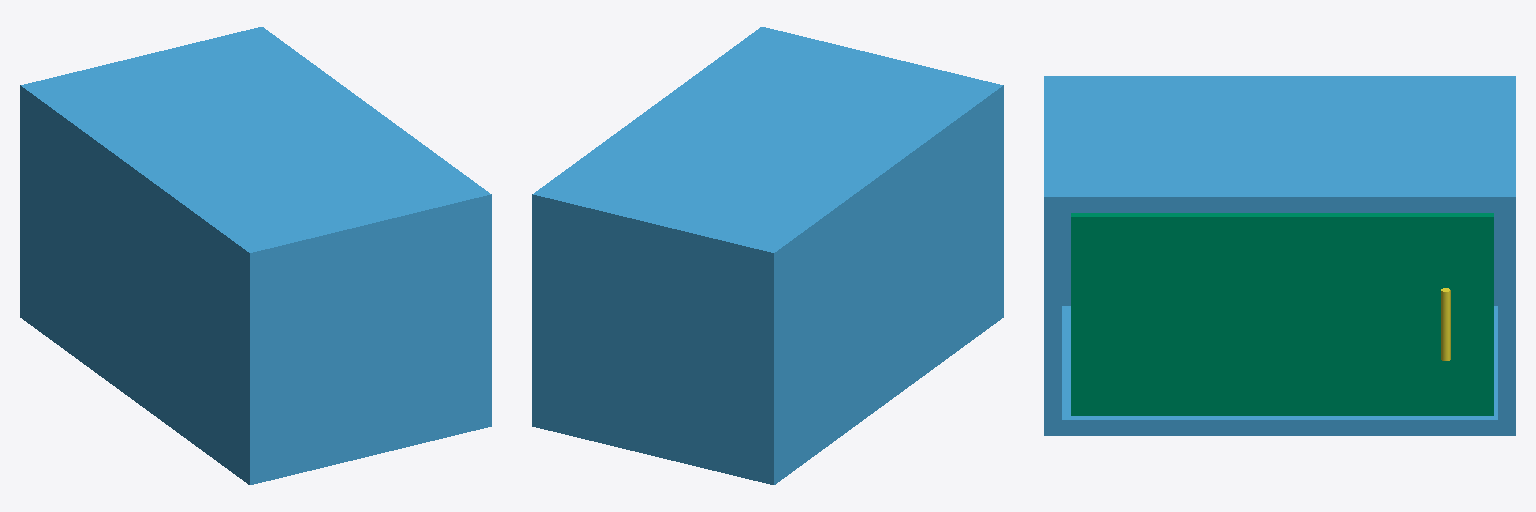
The robot description file, URDF, robot "my_cabinet":
<?xml version="1.0" ?>
<robot name="my_cabinet">
	<link name="world"/>
	<joint name="virtual_joint" type="fixed">
		<parent link="world"/>
		<child link="base_cabinet_link"/>
		<origin xyz="0.0 0.0 0.0" rpy="0.0 0.0 0.0"/>
	</joint>
	<link name="base_cabinet_link">
		<visual>
			<origin xyz="0.0 -0.0025 -0.1287487361722688" rpy="0.0 0.0 0.0"/>
			<geometry>
				<box size="0.3 0.4931610538302347 0.018"/>
			</geometry>
		</visual>
		<collision name="base_cabinet_link_collision_0">
			<origin xyz="0.0 -0.0025 -0.1287487361722688" rpy="0.0 0.0 0.0"/>
			<geometry>
				<box size="0.3 0.4931610538302347 0.018"/>
			</geometry>
		</collision>
		<visual>
			<origin xyz="0.0 0.23508052691511735 0.0" rpy="0.0 0.0 0.0"/>
			<geometry>
				<box size="0.3 0.018 0.27549747234453764"/>
			</geometry>
		</visual>
		<collision name="base_cabinet_link_collision_1">
			<origin xyz="0.0 0.23508052691511735 0.0" rpy="0.0 0.0 0.0"/>
			<geometry>
				<box size="0.3 0.018 0.27549747234453764"/>
			</geometry>
		</collision>
		<visual>
			<origin xyz="0.0 -0.24008052691511736 0.0" rpy="0.0 0.0 0.0"/>
			<geometry>
				<box size="0.3 0.018 0.27549747234453764"/>
			</geometry>
		</visual>
		<collision name="base_cabinet_link_collision_2">
			<origin xyz="0.0 -0.24008052691511736 0.0" rpy="0.0 0.0 0.0"/>
			<geometry>
				<box size="0.3 0.018 0.27549747234453764"/>
			</geometry>
		</collision>
		<visual>
			<origin xyz="0.0 -0.0025 0.1287487361722688" rpy="0.0 0.0 0.0"/>
			<geometry>
				<box size="0.3 0.4931610538302347 0.018"/>
			</geometry>
		</visual>
		<collision name="base_cabinet_link_collision_3">
			<origin xyz="0.0 -0.0025 0.1287487361722688" rpy="0.0 0.0 0.0"/>
			<geometry>
				<box size="0.3 0.4931610538302347 0.018"/>
			</geometry>
		</collision>
		<visual>
			<origin xyz="-0.141 -0.0025 0.0" rpy="0.0 0.0 0.0"/>
			<geometry>
				<box size="0.018 0.4931610538302347 0.27549747234453764"/>
			</geometry>
		</visual>
		<collision name="base_cabinet_link_collision_4">
			<origin xyz="-0.141 -0.0025 0.0" rpy="0.0 0.0 0.0"/>
			<geometry>
				<box size="0.018 0.4931610538302347 0.27549747234453764"/>
			</geometry>
		</collision>
		<inertial>
			<mass value="0.200000"/>
			<inertia ixx="0.005318" ixy="0.0" ixz="0.0" iyy="0.002765" iyz="0.0" izz="0.005553"/>
		</inertial>
	</link>
	<link name="door_link">
		<visual>
			<origin xyz="0.0 -0.22108052691511734 0.0"/>
			<geometry>
				<box size="0.018 0.4421610538302347 0.22949747234453763"/>
			</geometry>
		</visual>
		<collision name="door_link_collision">
			<origin xyz="0.0 -0.22108052691511734 0.0"/>
			<geometry>
				<box size="0.018 0.4421610538302347 0.22949747234453763"/>
			</geometry>
		</collision>
		<inertial>
			<mass value="0.200000"/>
			<inertia ixx="0.004136" ixy="0.0" ixz="0.0" iyy="0.000883" iyz="0.0" izz="0.003264"/>
		</inertial>
	</link>
	<joint name="door_joint" type="revolute">
		<origin xyz="0.141 -0.22108052691511734 0.0" rpy="0.000000 -0.000000 3.141593"/>
		<axis xyz="0 0 1"/>
		<parent link="base_cabinet_link"/>
		<child link="door_link"/>
		<limit effort="50" lower="-1.658062789394613" upper="0" velocity="10"/>
		<dynamics friction="3.5" damping="3.5"/>
	</joint>
	<link name="handle_link">
		<visual>
			<origin xyz="0.0 0.0 0.0" rpy="0.0 0.0 0.0"/>
			<geometry>
				<cylinder length="0.08" radius="0.005"/>
			</geometry>
		</visual>
		<collision name="handle_link_collision_0">
			<origin xyz="0.0 0.0 0.0" rpy="0.0 0.0 0.0"/>
			<geometry>
				<cylinder length="0.08" radius="0.005"/>
			</geometry>
		</collision>
		<visual>
			<origin xyz="-0.01 0.0 0.02" rpy="0.0 1.5707963267948966 0.0"/>
			<geometry>
				<cylinder length="0.02" radius="0.003"/>
			</geometry>
		</visual>
		<collision name="handle_link_collision_1">
			<origin xyz="-0.01 0.0 0.02" rpy="0.0 1.5707963267948966 0.0"/>
			<geometry>
				<cylinder length="0.01" radius="0.003"/>
			</geometry>
		</collision>
		<visual>
			<origin xyz="-0.01 0.0 -0.02" rpy="0.0 1.5707963267948966 0.0"/>
			<geometry>
				<cylinder length="0.02" radius="0.003"/>
			</geometry>
		</visual>
		<collision name="handle_link_collision_2">
			<origin xyz="-0.01 0.0 -0.02" rpy="0.0 1.5707963267948966 0.0"/>
			<geometry>
				<cylinder length="0.02" radius="0.003"/>
			</geometry>
		</collision>
		<inertial>
			<mass value="0.050000"/>
			<inertia ixx="0.000027" ixy="0.0" ixz="0.0" iyy="0.000029" iyz="0.0" izz="0.000003"/>
		</inertial>
	</link>
	<joint name="handle_joint" type="fixed">
		<origin xyz="-0.028999999999999998 -0.3921610538302347 0.0" rpy="0.000000 -0.000000 3.141593"/>
		<parent link="door_link"/>
		<child link="handle_link"/>
	</joint>
	<gazebo reference="base_cabinet_link">
		<sensor name="main_sensor" type="contact">
			<selfCollide>true</selfCollide>
			<alwaysOn>true</alwaysOn>
			<updateRate>5.0</updateRate>
			<material>Gazebo/Red</material>
			<contact>
				<collision>base_cabinet_link_collision_0_collision</collision>
				<collision>base_cabinet_link_collision_1_collision</collision>
				<collision>base_cabinet_link_collision_2_collision</collision>
				<collision>base_cabinet_link_collision_3_collision</collision>
				<collision>base_cabinet_link_collision_4_collision</collision>
			</contact>
			<plugin name="gazebo_ros_bumper_controller" filename="libgazebo_ros_bumper.so">
				<bumperTopicName>/contact</bumperTopicName>
				<frameName>world</frameName>
			</plugin>
		</sensor>
	</gazebo>
	<gazebo reference="door_link">
		<sensor name="main_sensor" type="contact">
			<selfCollide>true</selfCollide>
			<alwaysOn>true</alwaysOn>
			<updateRate>5.0</updateRate>
			<material>Gazebo/Red</material>
			<contact>
				<collision>door_link_collision_collision</collision>
			</contact>
			<plugin name="gazebo_ros_bumper_controller" filename="libgazebo_ros_bumper.so">
				<bumperTopicName>/contact_door</bumperTopicName>
				<frameName>contact_door</frameName>
			</plugin>
		</sensor>
	</gazebo>
	<gazebo reference="door_link">
		<mu>3.0</mu>
		<mu2>3.0</mu2>
		<kp>10000000</kp>
		<kd>100</kd>
	</gazebo>
</robot>

--- Render facts (derived) ---
The picture shows the robot from 3 angles, left to right: view 1: azimuth 30°, elevation 25°; view 2: azimuth 150°, elevation 25°; view 3: azimuth 270°, elevation 25°; orthographic projection.
Model my_cabinet with 4 links and 3 joints (1 revolute, 2 fixed), rooted at world, posed every joint at zero.
Visible links, largest first — view 1: base_cabinet_link; view 2: base_cabinet_link; view 3: door_link, base_cabinet_link, handle_link.
Boxes of the visible links, box(x1,y1,x2,y2) form: base_cabinet_link: box(20, 27, 491, 484); base_cabinet_link: box(532, 27, 1003, 484); door_link: box(1071, 213, 1493, 415); base_cabinet_link: box(1044, 76, 1515, 435); handle_link: box(1441, 288, 1450, 360).
Bounding box of the posed robot: 0.325 × 0.4932 × 0.2755 m (x, y, z).
Geometry: primitives only (box / cylinder / sphere), no mesh files.
